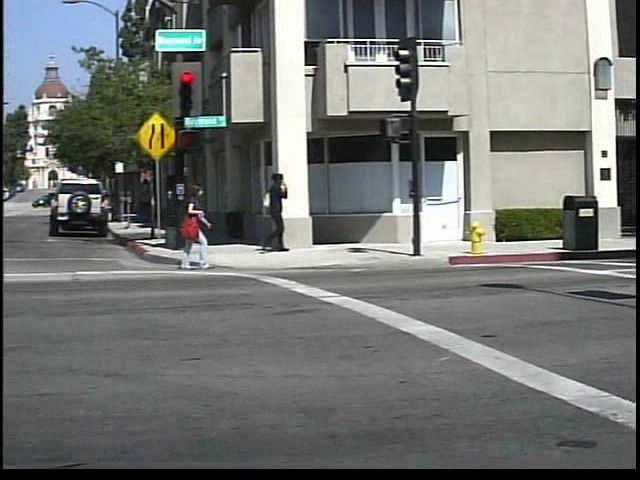person: (179, 180, 230, 272), (262, 168, 304, 254)
